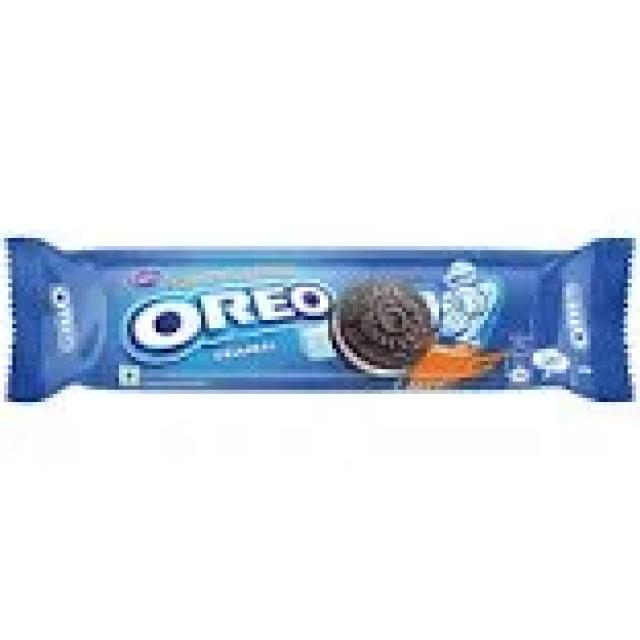oreo: (6, 244, 628, 403)
